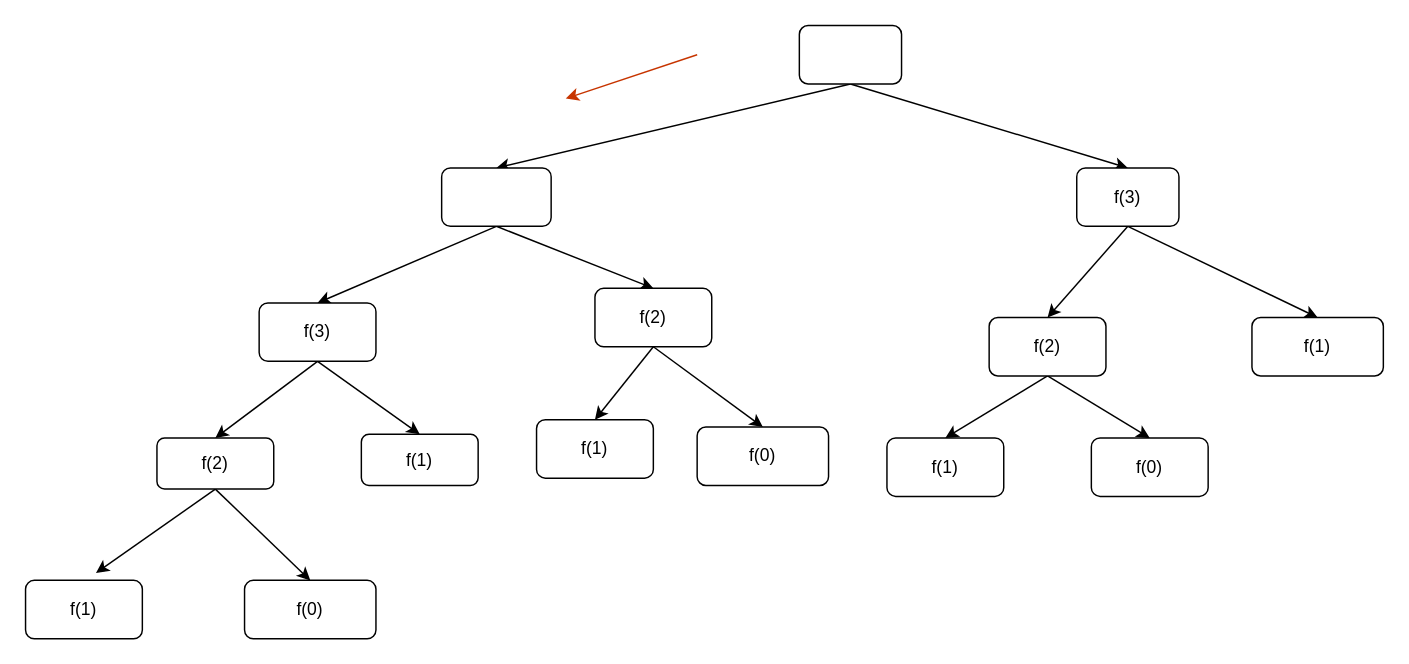
The diagram is 1409 pixels wide and 664 high, and some of its shapes have lost their labels. Each missing label, with the centre of its shape:
"f(4)" goes at [495,196].
"F(5)" goes at [850,54].
